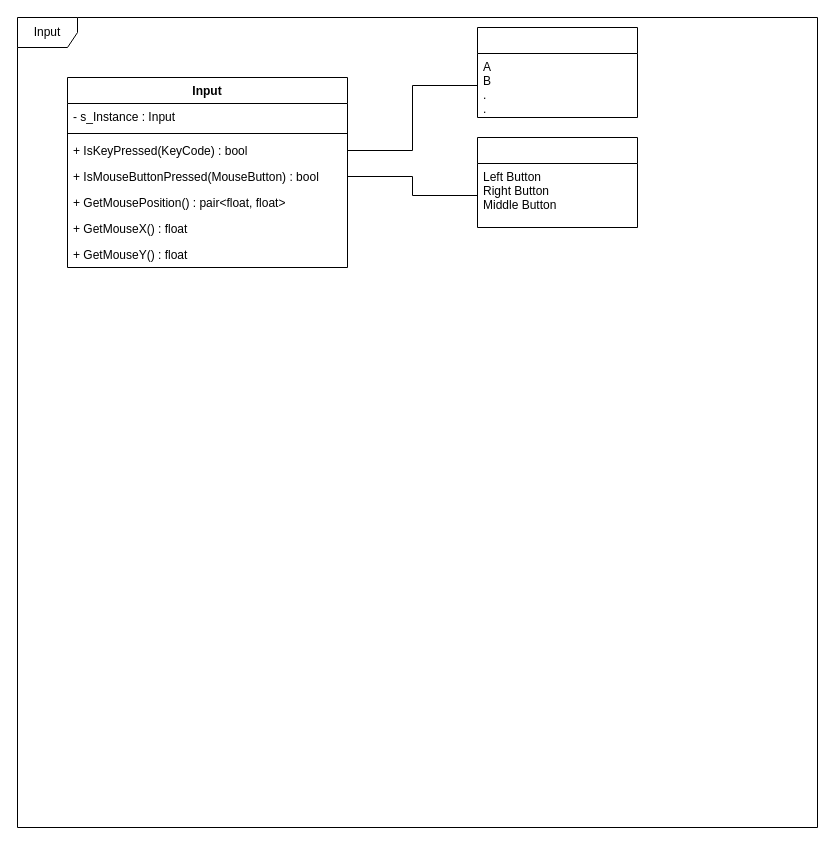
Some shapes in this 835 by 845 pixel diagram are drawn without their labels. Each missing label, with the box of its shape:
KeyCode: (476, 26, 638, 118)
MouseButton: (476, 136, 638, 228)
